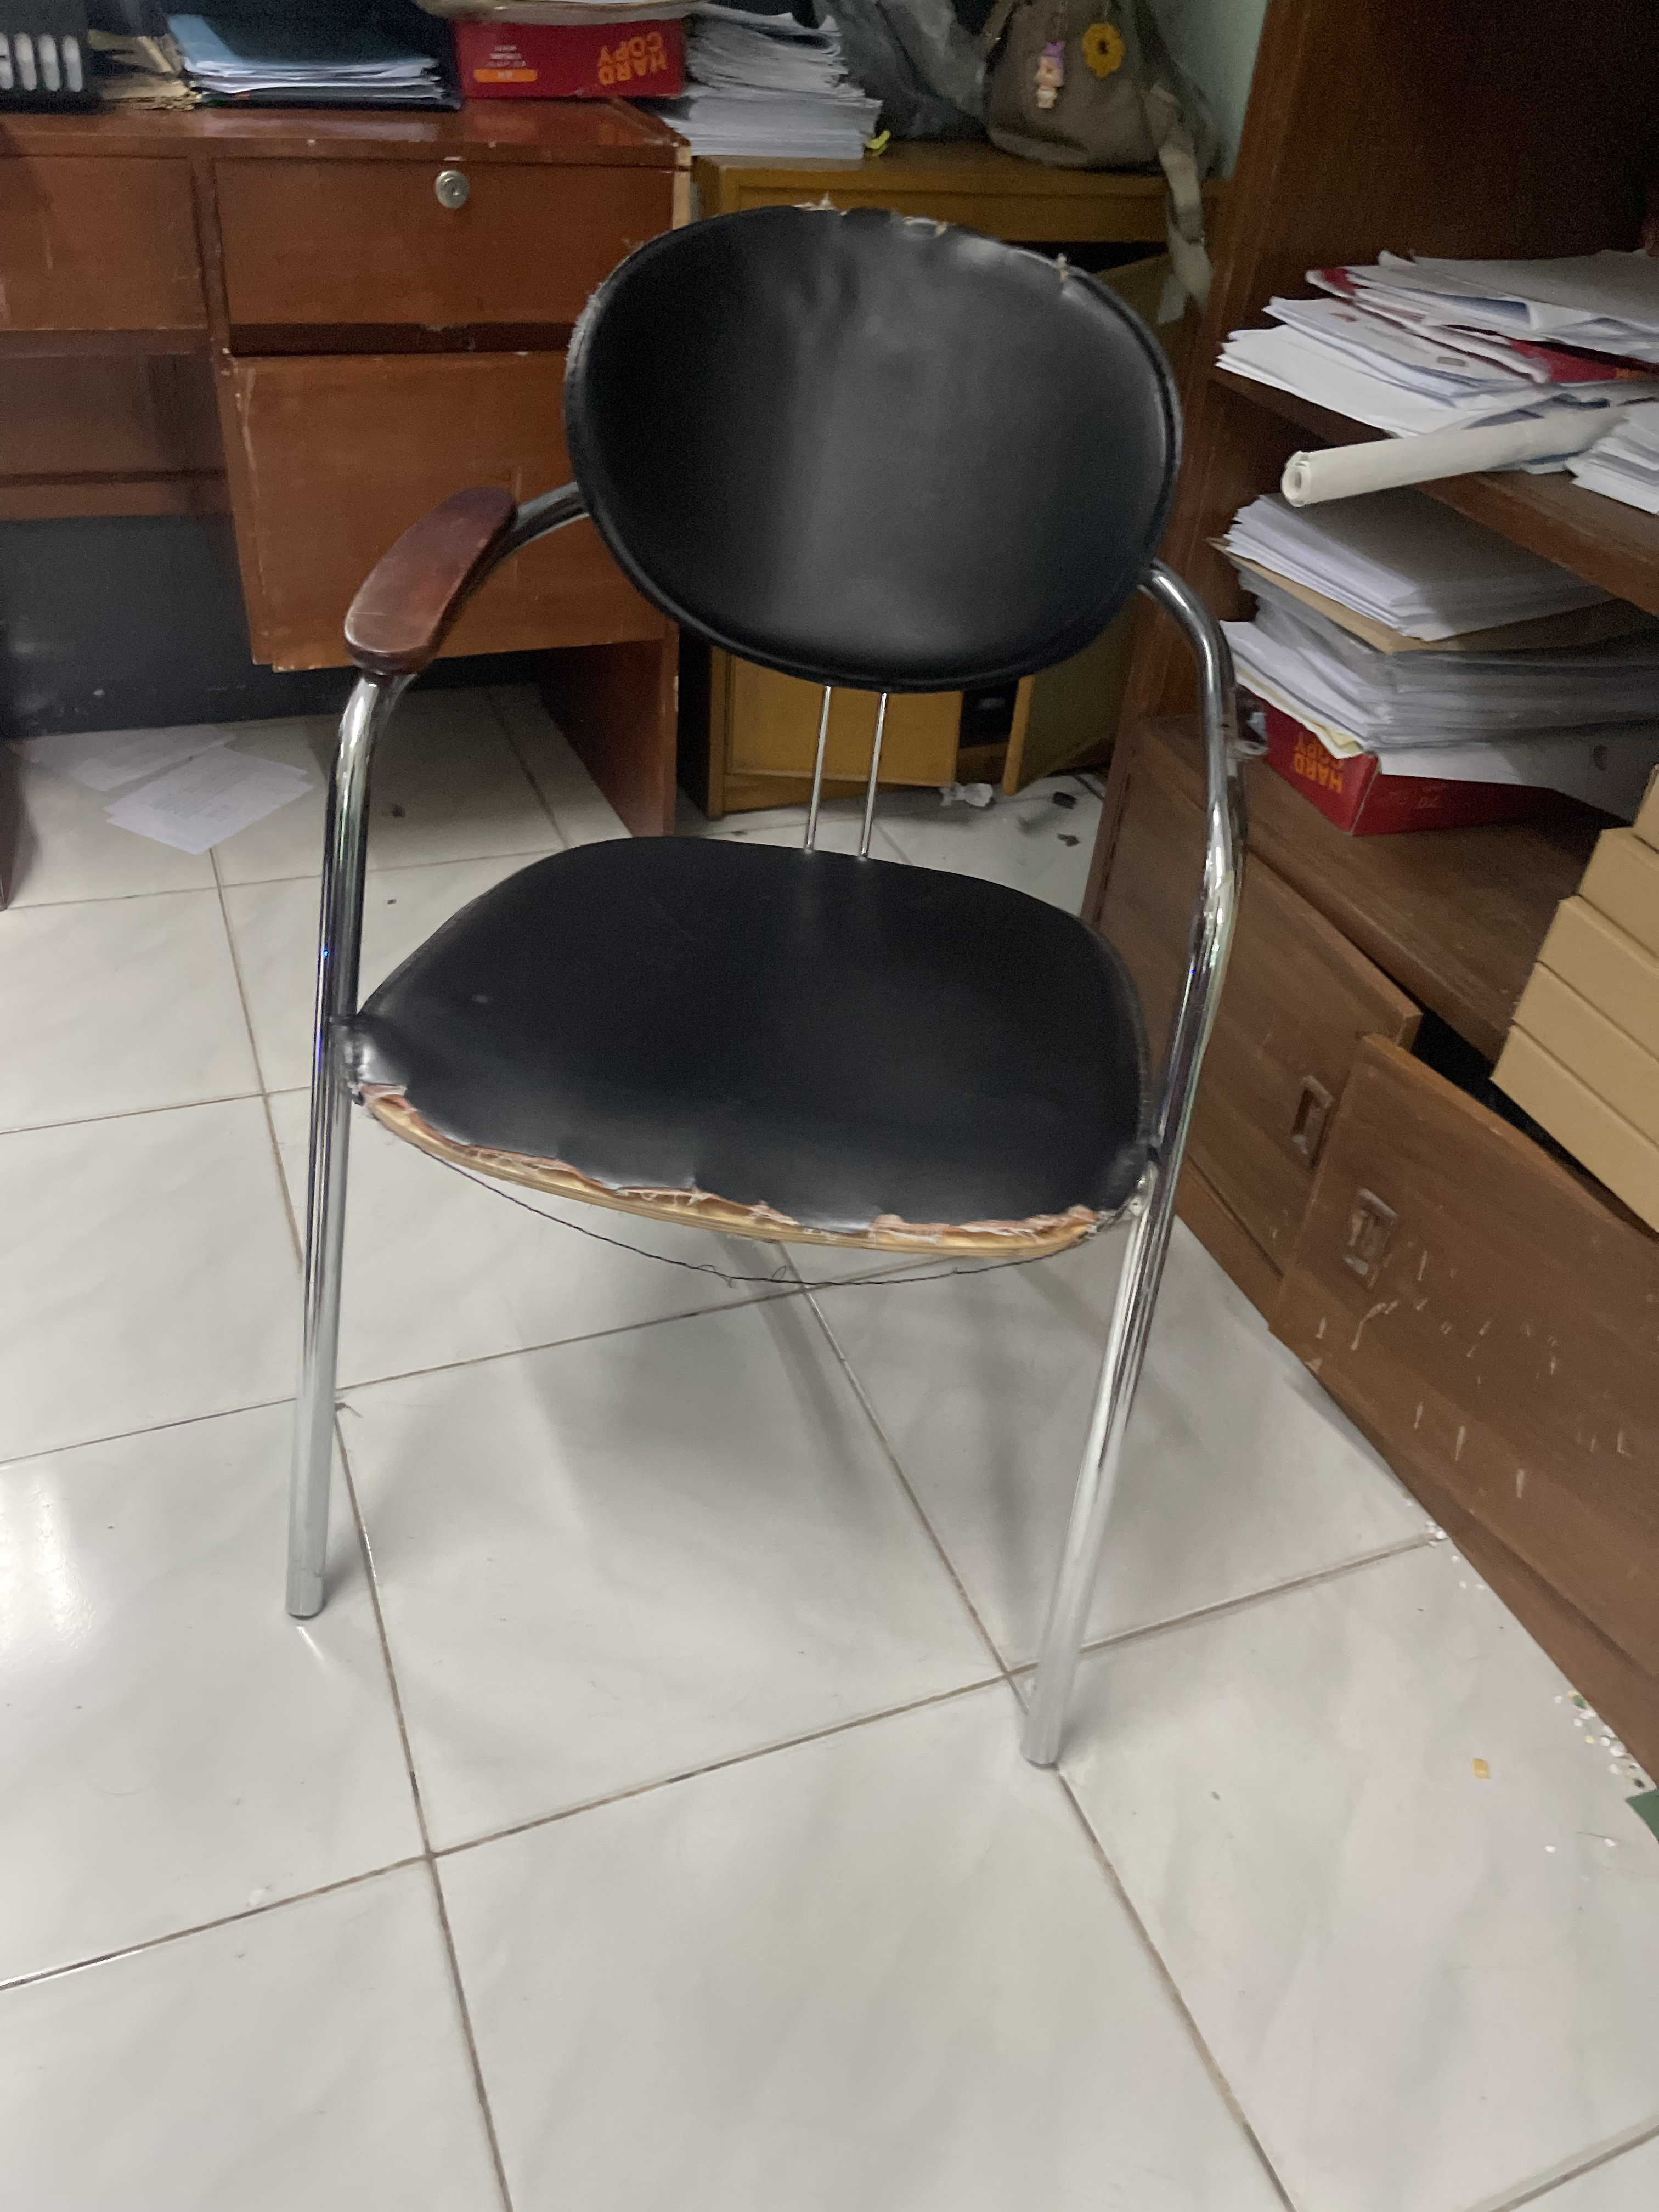chair1: (281, 204, 1249, 1796)
